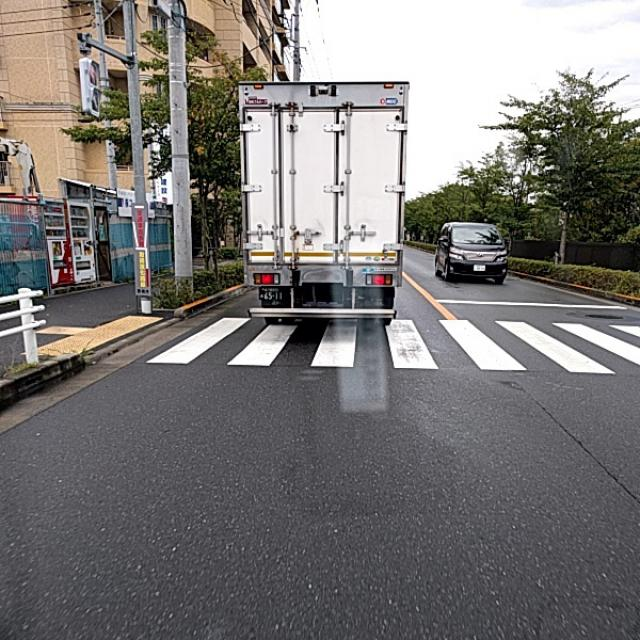pothole: (258, 442, 312, 524)
